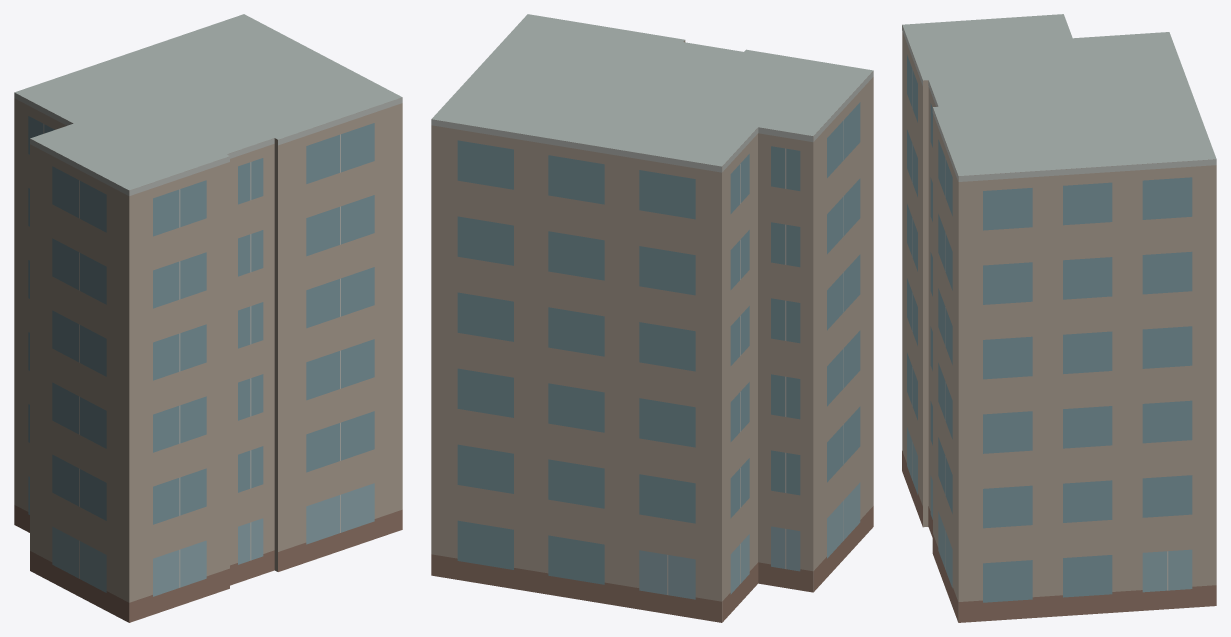
Rendered from survey-upis-32928340.glb.
3 renders of one model, left to right at view 1: azimuth 30°, elevation 25°; view 2: azimuth 150°, elevation 25°; view 3: azimuth 270°, elevation 25°, orthographic. The views are drawn at different scales.
Parts seen in each view (by area): view 1: survey-upis-32928340.tmp; view 2: survey-upis-32928340.tmp; view 3: survey-upis-32928340.tmp.
Boxes of the visible parts, x1=… form: survey-upis-32928340.tmp: x1=14, y1=14, x2=402, y2=622; survey-upis-32928340.tmp: x1=431, y1=14, x2=873, y2=622; survey-upis-32928340.tmp: x1=902, y1=14, x2=1216, y2=622.
Bounding box in the file's own units: 14.33 × 18.4 × 11.75.
